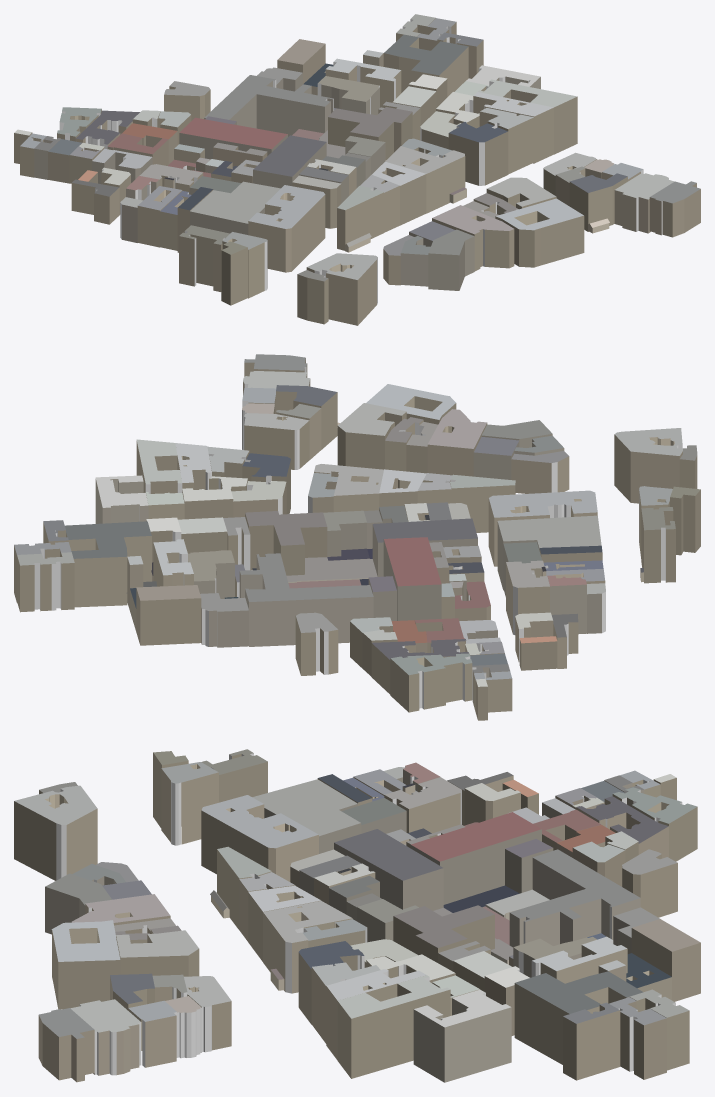
The picture shows the model from 3 angles, top to bottom: view 1: azimuth 30°, elevation 25°; view 2: azimuth 150°, elevation 25°; view 3: azimuth 270°, elevation 25°; orthographic projection. The views are drawn at different scales.
Parts seen in each view (by area): view 1: tuile; view 2: tuile; view 3: tuile.
Boxes of the visible parts, x1,y1,x2,y2 form: tuile: (14, 14, 700, 325); tuile: (14, 354, 700, 720); tuile: (14, 749, 700, 1082).
Bounding box in the file's own units: 270 × 30.73 × 276.
